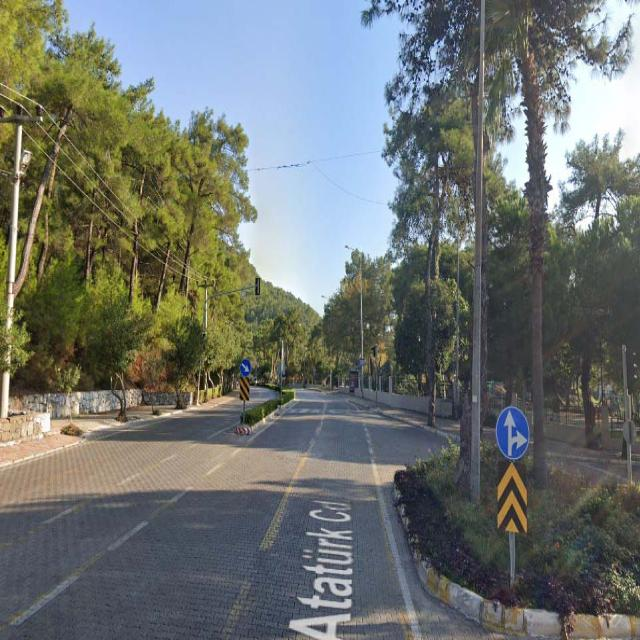ilerisag: (494, 409, 531, 458)
